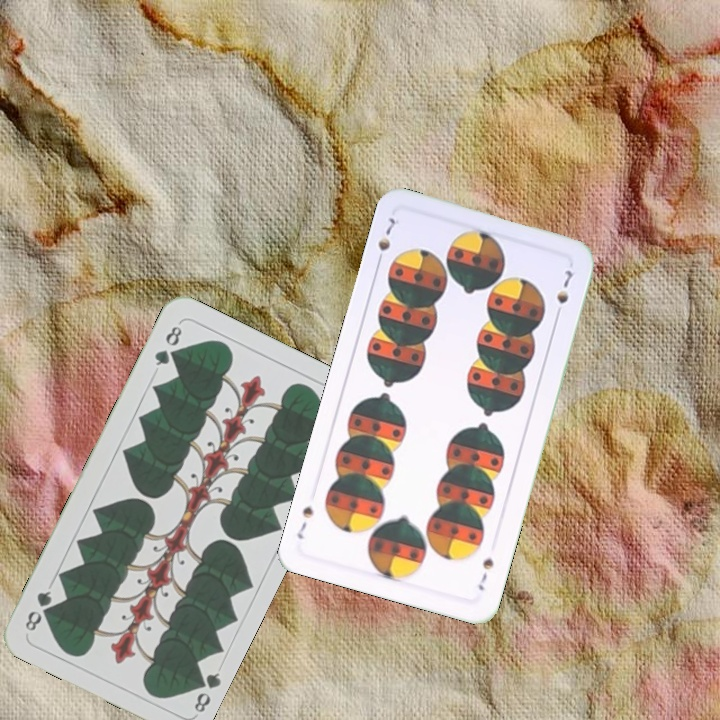G8: (188, 668, 223, 716), (150, 322, 185, 369)
S7: (373, 213, 398, 254), (474, 554, 497, 593)
